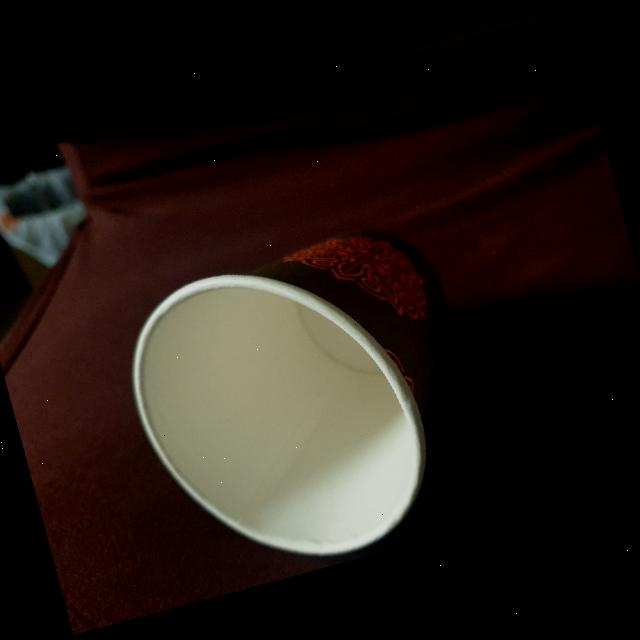trash: (96, 194, 512, 599)
